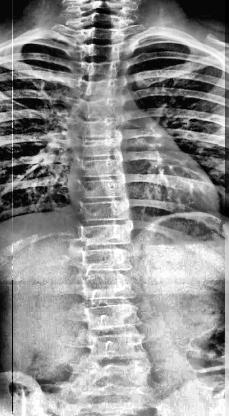Vertebrae: (82, 334, 150, 366), (65, 178, 133, 208), (76, 274, 140, 304), (80, 301, 144, 330), (70, 138, 124, 164), (77, 248, 139, 270), (66, 156, 128, 178), (72, 224, 132, 246), (74, 117, 126, 141), (71, 200, 133, 219), (74, 96, 128, 114), (74, 76, 122, 92), (77, 60, 119, 76), (77, 41, 116, 57), (75, 25, 116, 39), (77, 10, 114, 22)
